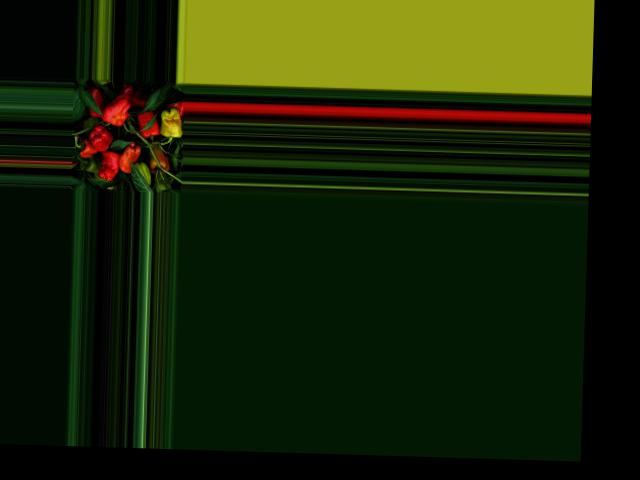bell_pepper: (76, 143, 96, 158)
